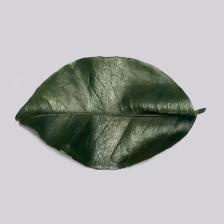healthy: (15, 56, 197, 172)
